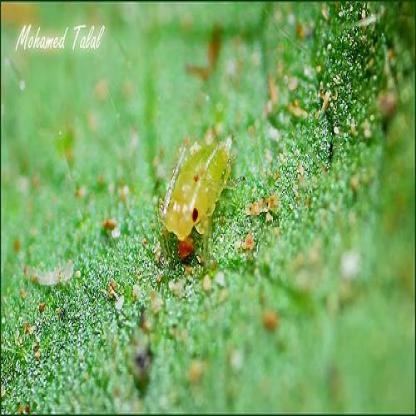aphid: (156, 123, 239, 258)
